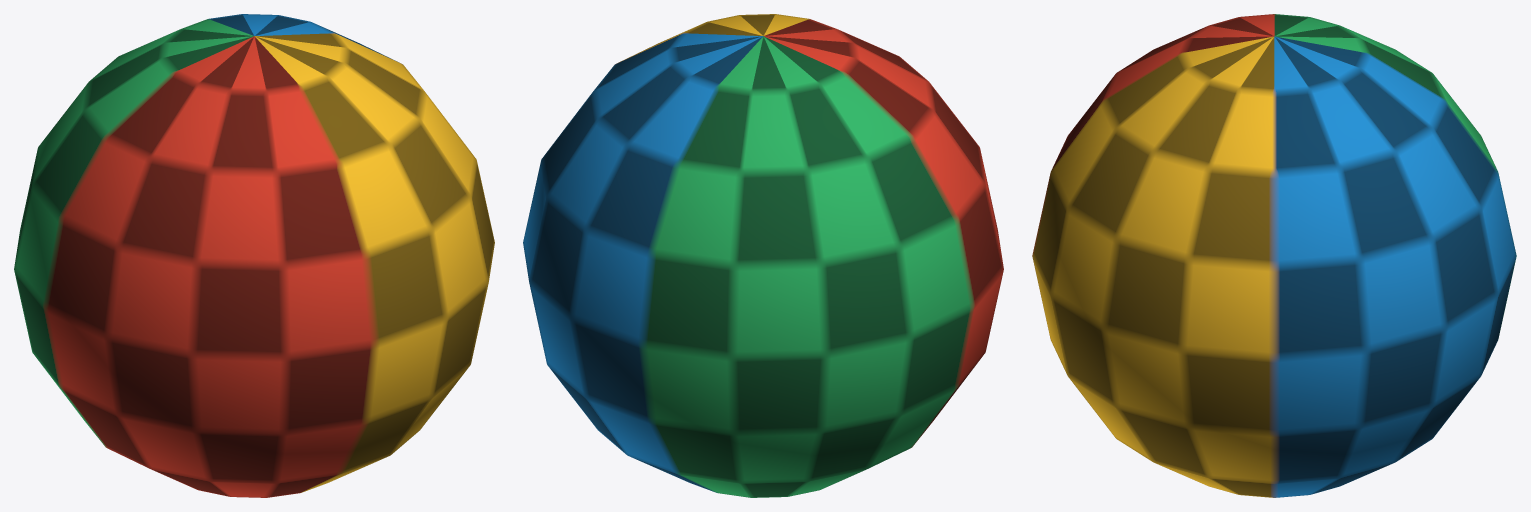
3 views of the same model, side by side, from view 1: azimuth 30°, elevation 25°; view 2: azimuth 150°, elevation 25°; view 3: azimuth 270°, elevation 25° (orthographic).
Visible parts, largest first — view 1: TexturedSphere_Sphere; view 2: TexturedSphere_Sphere; view 3: TexturedSphere_Sphere.
Boxes of the visible parts, <box> form: TexturedSphere_Sphere: <box>14,14,494,497</box>; TexturedSphere_Sphere: <box>523,14,1003,497</box>; TexturedSphere_Sphere: <box>1032,14,1516,497</box>.
Size of the model in its own units: 2 by 2 by 2.
Materials: 1 (1 with a texture image).
